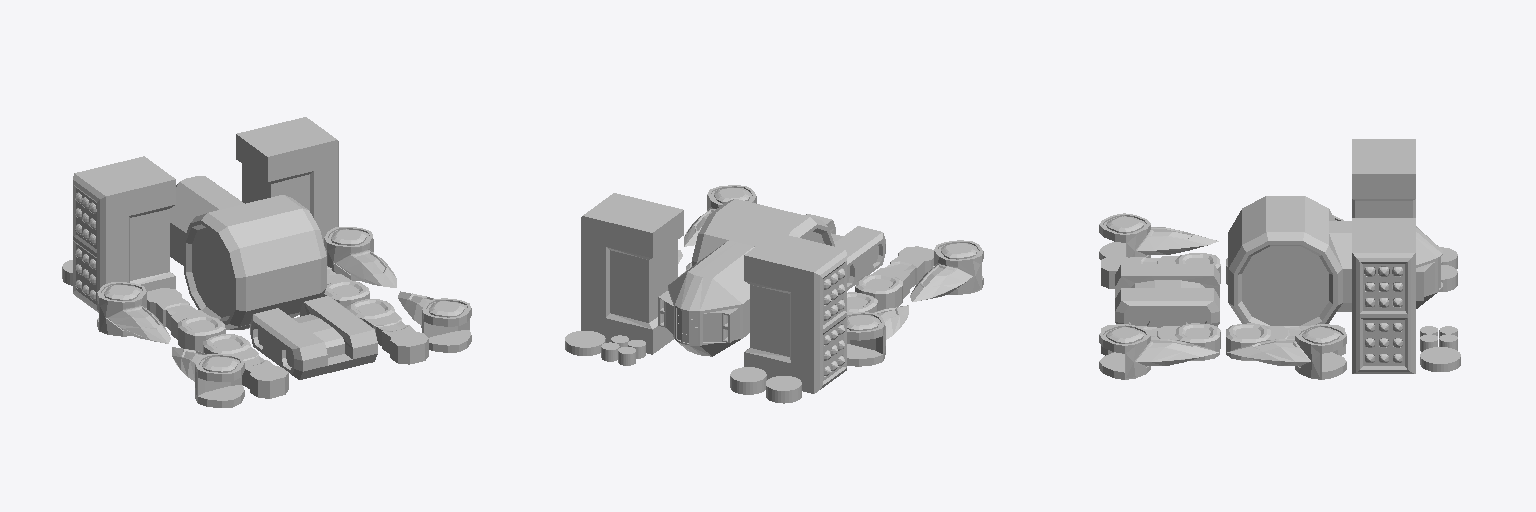
File: Salemander.obj
3 views of the same model, side by side, from view 1: azimuth 30°, elevation 25°; view 2: azimuth 150°, elevation 25°; view 3: azimuth 270°, elevation 25° (orthographic).
Parts seen in each view (by area): view 1: Cube.001, Cube, Cube.004, Cube.003, Cube.002; view 2: Cube.001, Cube, Cube.004, Cube.003, Cube.002, Cylinder, Cylinder.002, Cylinder.001; view 3: Cube, Cube.001, Cube.004, Cube.002, Cube.003, Cylinder.001, Cylinder.002, Cylinder.
Boxes of the visible parts, <box> form: Cube.001: <box>73,117,338,312</box>; Cube: <box>170,176,326,329</box>; Cube.004: <box>97,227,471,407</box>; Cube.003: <box>147,266,428,398</box>; Cube.002: <box>250,296,377,379</box>; Cube.001: <box>581,193,846,393</box>; Cube: <box>658,199,834,356</box>; Cube.004: <box>678,185,983,366</box>; Cube.003: <box>679,246,933,313</box>; Cube.002: <box>805,214,885,290</box>; Cylinder: <box>730,367,801,403</box>; Cylinder.002: <box>601,335,645,365</box>; Cylinder.001: <box>565,331,605,355</box>; Cube: <box>1228,196,1442,327</box>; Cube.001: <box>1352,139,1415,373</box>; Cube.004: <box>1099,213,1346,379</box>; Cube.002: <box>1115,264,1219,327</box>; Cube.003: <box>1101,253,1345,360</box>; Cylinder.001: <box>1420,347,1460,371</box>; Cylinder.002: <box>1420,326,1457,351</box>; Cylinder: <box>1439,247,1457,291</box>.
Bounding box in the file's own units: 7.24 × 3.1 × 8.34.